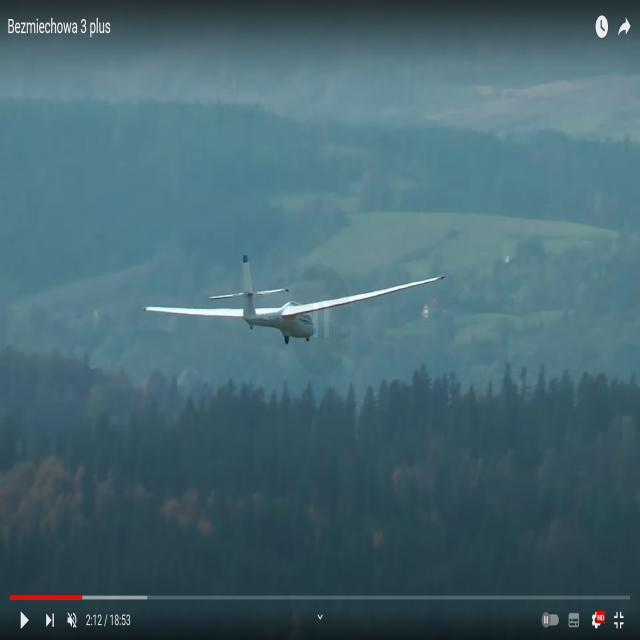iha: (144, 289, 445, 313)
